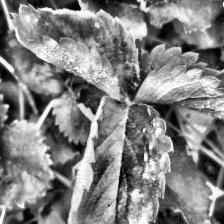Powdery Mildew Leaf: (66, 95, 174, 224), (8, 4, 139, 102), (129, 44, 224, 129), (71, 0, 149, 43)
